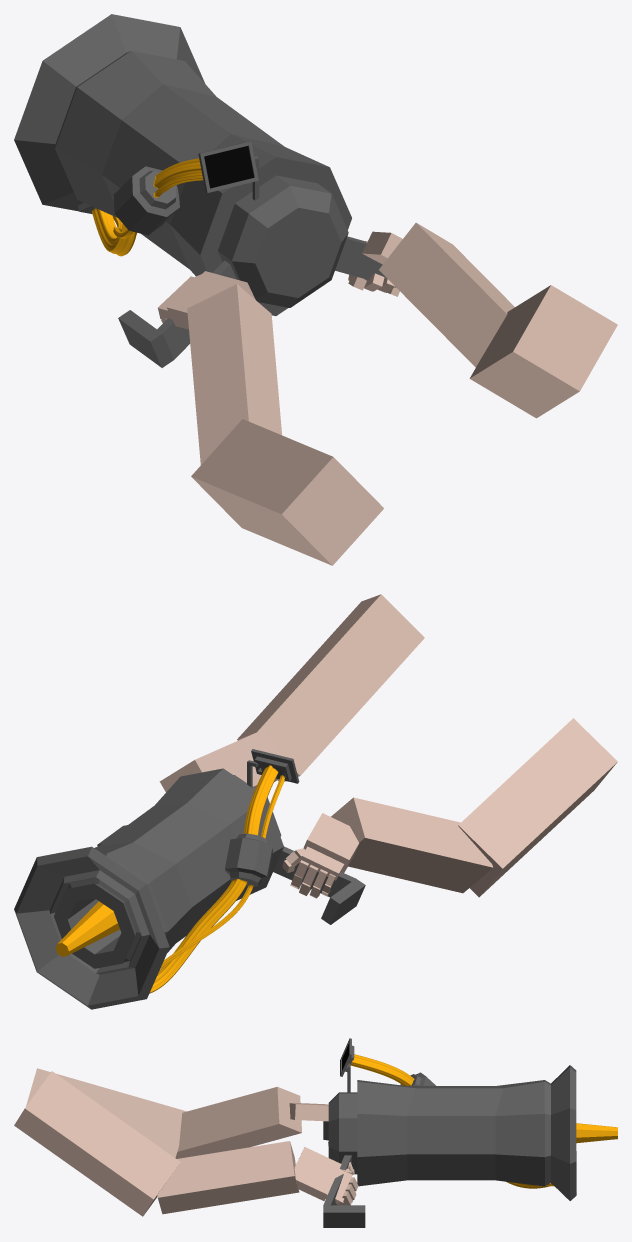
File: Manipulator.fbx
3 renders of one model, top to bottom at view 1: azimuth 30°, elevation 25°; view 2: azimuth 150°, elevation 25°; view 3: azimuth 270°, elevation 25°, orthographic. The views are drawn at different scales.
Visible parts, largest first — view 1: Circle, Upper Hand L1, Lower Arm L1, Upper Arm R1, Lower Arm R1, Hand L1, Hand R1; view 2: Circle, Upper Arm R1, Upper Hand L1, Lower Arm L1, Lower Arm R1, Hand L1, Cube.008; view 3: Circle, Upper Arm R1, Lower Arm R1, Lower Arm L1, Upper Hand L1, Hand R1, Hand L1, Cube.004.
Boxes of the visible parts, <box> form: Circle: <box>14,14,395,367</box>; Upper Hand L1: <box>191,419,383,565</box>; Lower Arm L1: <box>187,284,281,464</box>; Upper Arm R1: <box>469,285,617,418</box>; Lower Arm R1: <box>379,222,514,367</box>; Hand L1: <box>166,271,255,329</box>; Hand R1: <box>362,231,402,264</box>; Circle: <box>14,749,365,1009</box>; Upper Arm R1: <box>237,594,424,781</box>; Upper Hand L1: <box>458,718,617,897</box>; Lower Arm L1: <box>331,797,492,893</box>; Lower Arm R1: <box>159,729,282,792</box>; Hand L1: <box>303,813,359,872</box>; Cube.008: <box>299,846,344,880</box>; Circle: <box>323,1038,617,1227</box>; Upper Arm R1: <box>14,1071,180,1216</box>; Lower Arm R1: <box>157,1141,299,1214</box>; Lower Arm L1: <box>175,1086,301,1158</box>; Upper Hand L1: <box>26,1068,186,1157</box>; Hand R1: <box>294,1147,341,1200</box>; Hand L1: <box>289,1103,328,1121</box>; Cube.004: <box>326,1169,352,1204</box>.
Size of the model in its own units: 1027 by 641 by 2098.
